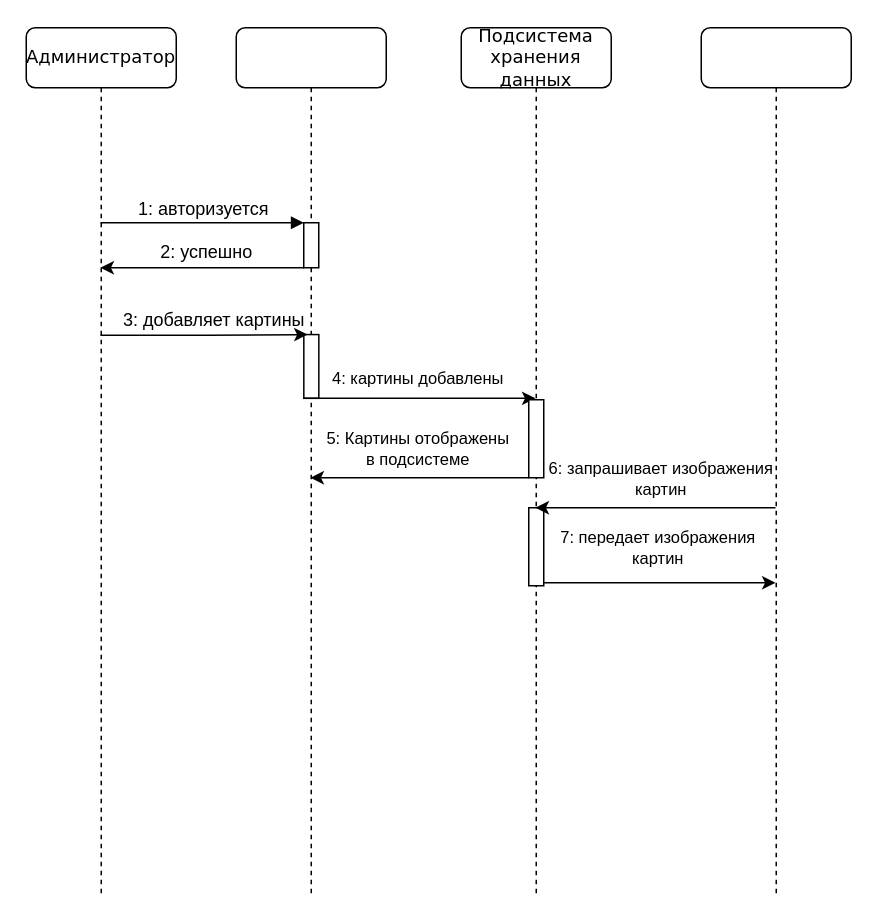
Image size: 878x924. Some labels were removed from this diagram. Here are the shapes that lost their labels. From the top down, the box of each, then its label:
(235, 26, 386, 898): Подсистема управления контентом
(700, 26, 851, 898): Система
